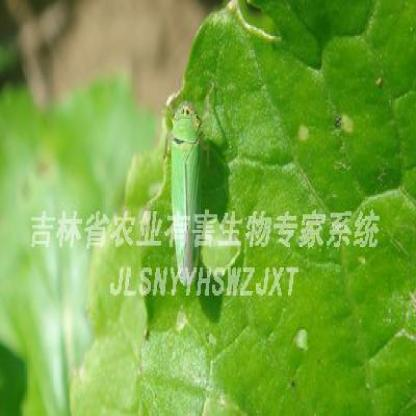Green-Leafhopper: (148, 73, 223, 305)
